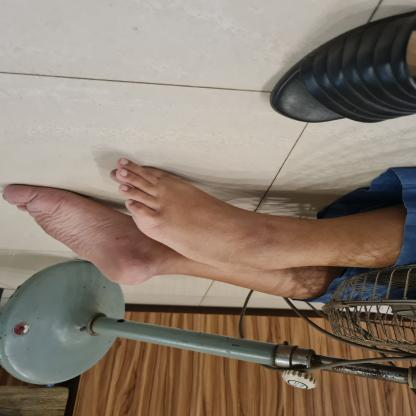leg: (102, 150, 399, 281), (0, 176, 167, 294)
